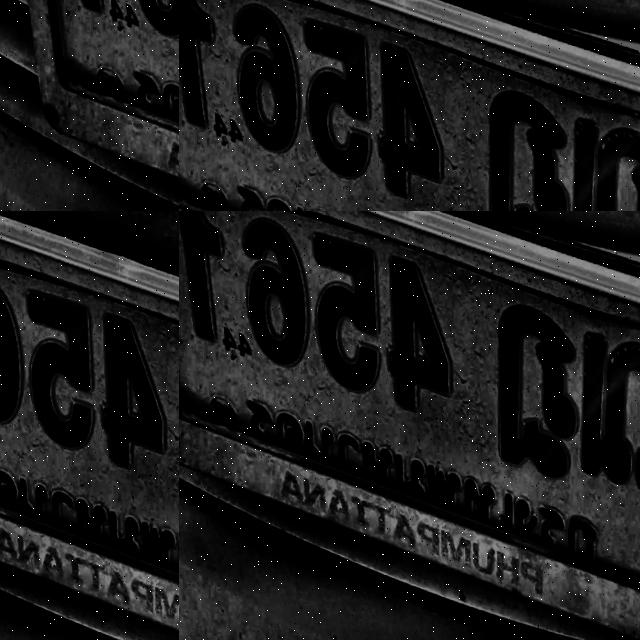license-plate: (179, 211, 640, 640)
